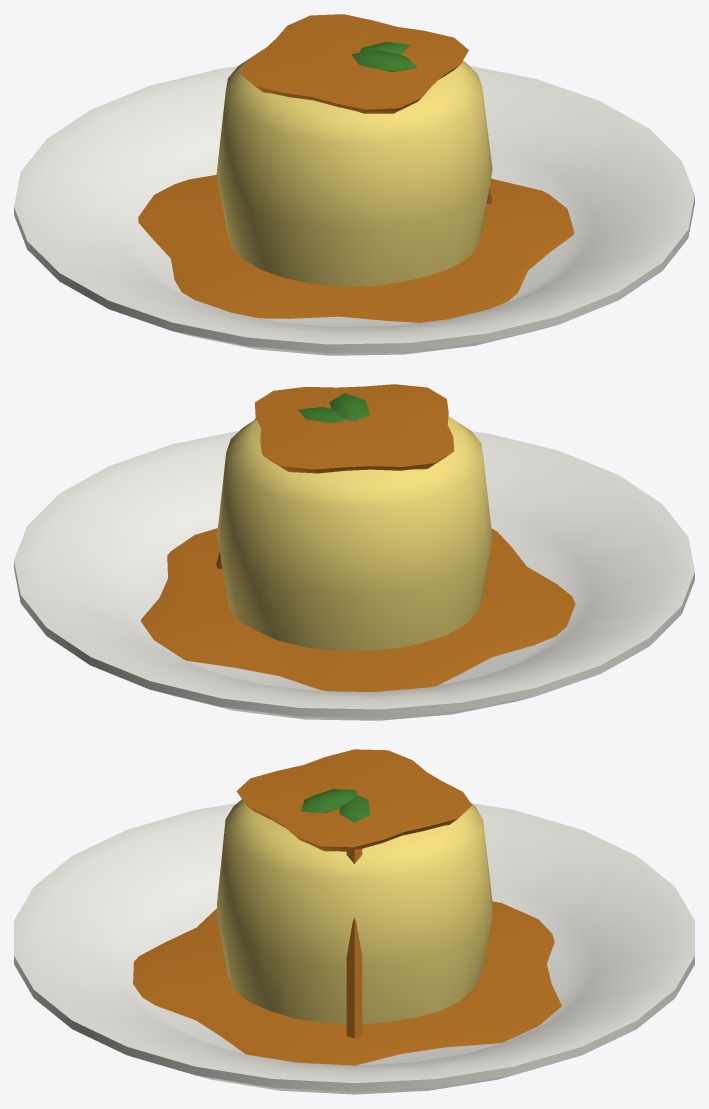
Rendered from dessert_creme_caramel.glb.
3 renders of one model, top to bottom at view 1: azimuth 30°, elevation 25°; view 2: azimuth 150°, elevation 25°; view 3: azimuth 270°, elevation 25°, orthographic.
Visible parts, largest first — view 1: dessert_creme_caramel; view 2: dessert_creme_caramel; view 3: dessert_creme_caramel.
Boxes of the visible parts, x1,y1,x2,y2 form: dessert_creme_caramel: (14, 14, 694, 355); dessert_creme_caramel: (14, 384, 694, 720); dessert_creme_caramel: (14, 749, 694, 1094).
Size of the model in its own units: 0.18 by 0.0633 by 0.1787.
